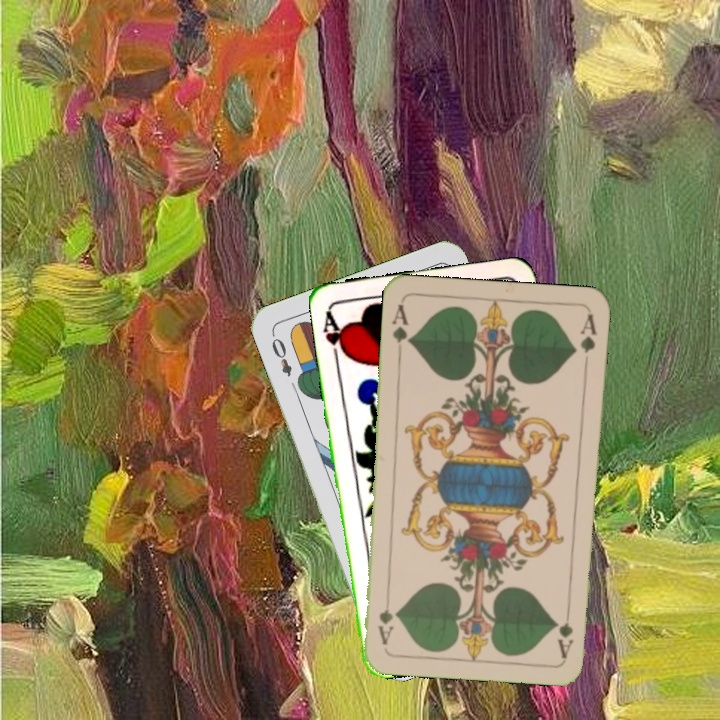EO: (267, 329, 295, 379)
GA: (388, 300, 414, 359), (554, 601, 576, 660)
HA: (319, 307, 351, 366)
